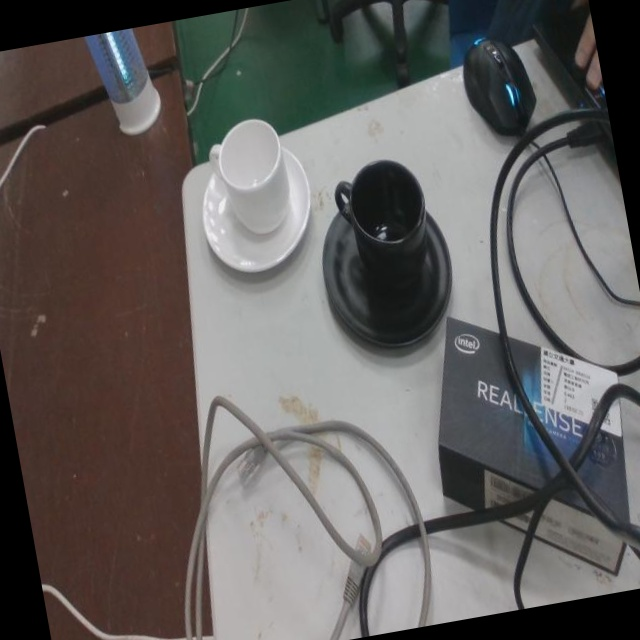black: (320, 158, 450, 356)
white: (197, 116, 313, 277)
